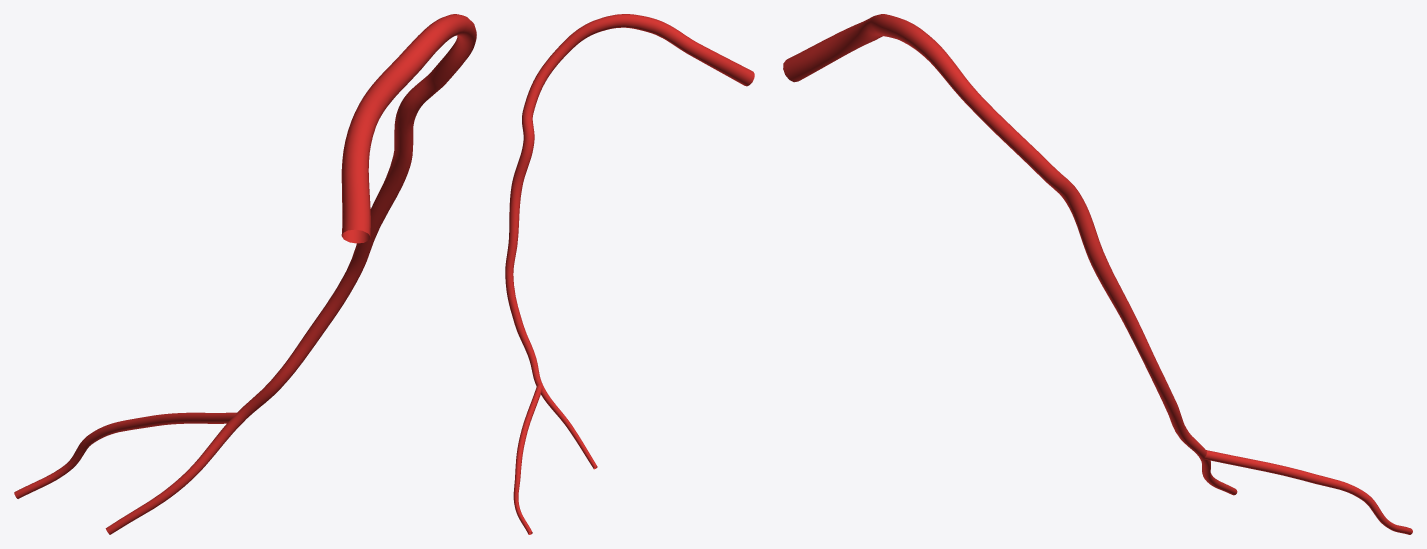
The model's file is circulatorio-temporal-branches-of-middle-cerebral-artery-l.glb.
The picture shows the model from 3 angles, left to right: view 1: azimuth 30°, elevation 25°; view 2: azimuth 150°, elevation 25°; view 3: azimuth 270°, elevation 25°; orthographic projection. The views are drawn at different scales.
Parts seen in each view (by area): view 1: Temporal branches of middle cerebral artery.l; view 2: Temporal branches of middle cerebral artery.l; view 3: Temporal branches of middle cerebral artery.l.
Part boxes in pixels (x1,y1,x2,y2): Temporal branches of middle cerebral artery.l: (14,14,476,534); Temporal branches of middle cerebral artery.l: (505,14,754,534); Temporal branches of middle cerebral artery.l: (783,14,1412,534).
Size of the model in its own units: 0.0182 by 0.0449 by 0.0455.
